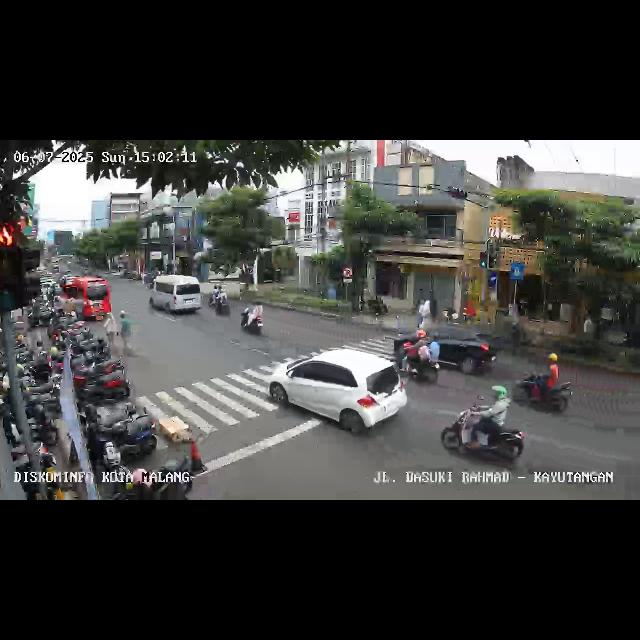car: (268, 346, 402, 438), (448, 394, 528, 472), (409, 322, 496, 378), (55, 276, 112, 322), (148, 275, 202, 319)
motorcycle: (510, 358, 570, 418), (398, 328, 442, 387), (240, 298, 266, 342), (210, 284, 230, 318)
person: (118, 312, 132, 358), (104, 313, 116, 353)
